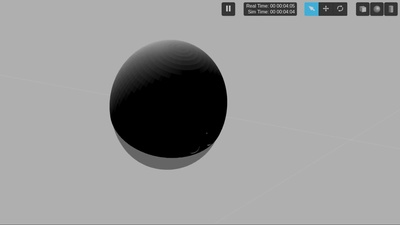mira_robot: (110, 40, 228, 170)
